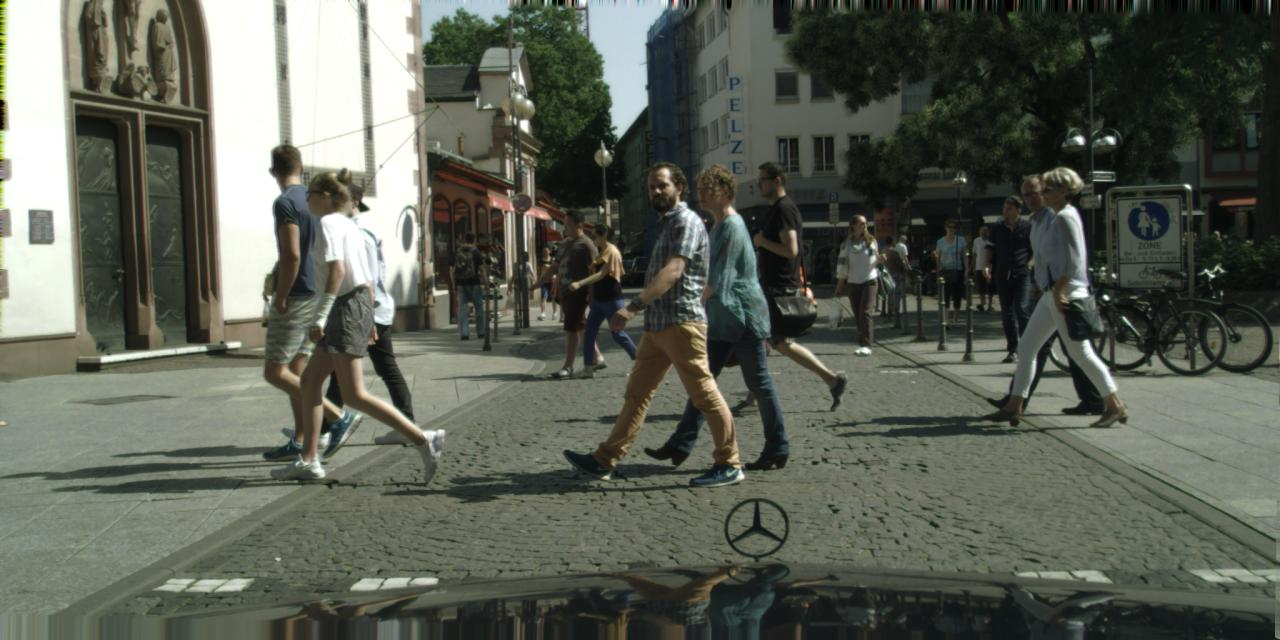ped: (590, 162, 721, 483), (235, 144, 364, 458), (285, 172, 411, 479), (652, 162, 777, 466), (296, 182, 402, 444), (1004, 167, 1110, 426), (730, 160, 834, 413), (989, 173, 1087, 414), (982, 195, 1050, 361), (542, 211, 608, 373), (573, 222, 636, 375), (832, 214, 892, 357), (929, 218, 974, 330), (448, 231, 492, 339), (968, 226, 1002, 310), (876, 235, 908, 315), (532, 246, 561, 318), (510, 251, 536, 316), (972, 238, 998, 303), (888, 234, 912, 293)
